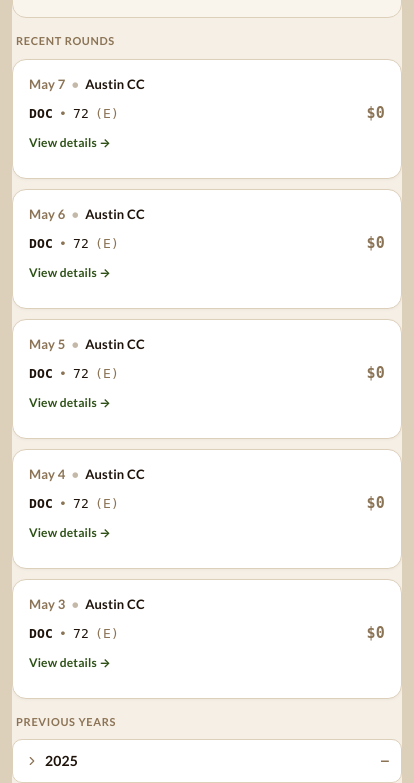
Test case: <ProfileRoundsList /> › year header expands to reveal months; months independently expandable
(page scrolled)
Click the button with test id "year-2025-toggle" at {"x": 62, "y": 760}, box [12,739,402,782]
(page scrolled)
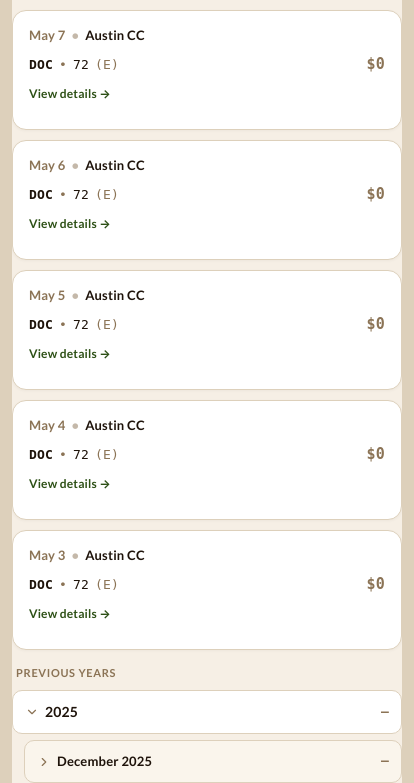
Expected: the button with test id "year-2025-toggle" is expanded, [12,690,402,734]
Click the button with test id "year-2025-month-2025-12-toggle" at {"x": 105, "y": 761}, box [24,740,402,782]
(page scrolled)
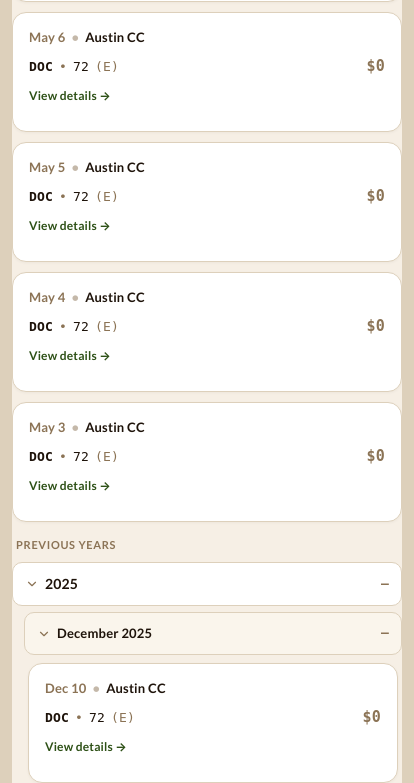
Expected: the button with test id "year-2025-month-2025-12-toggle" is expanded, [24,612,402,655]
Expected: the element with test id "year-2025-month-2025-12-card-dec-2025" is shown, [28,663,398,782]
